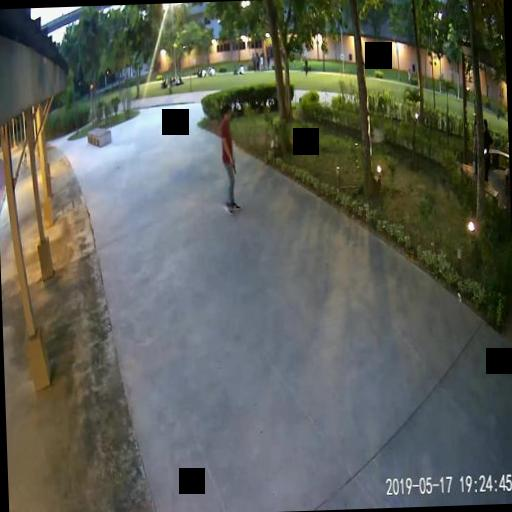Handgun: (228, 157, 234, 172)
